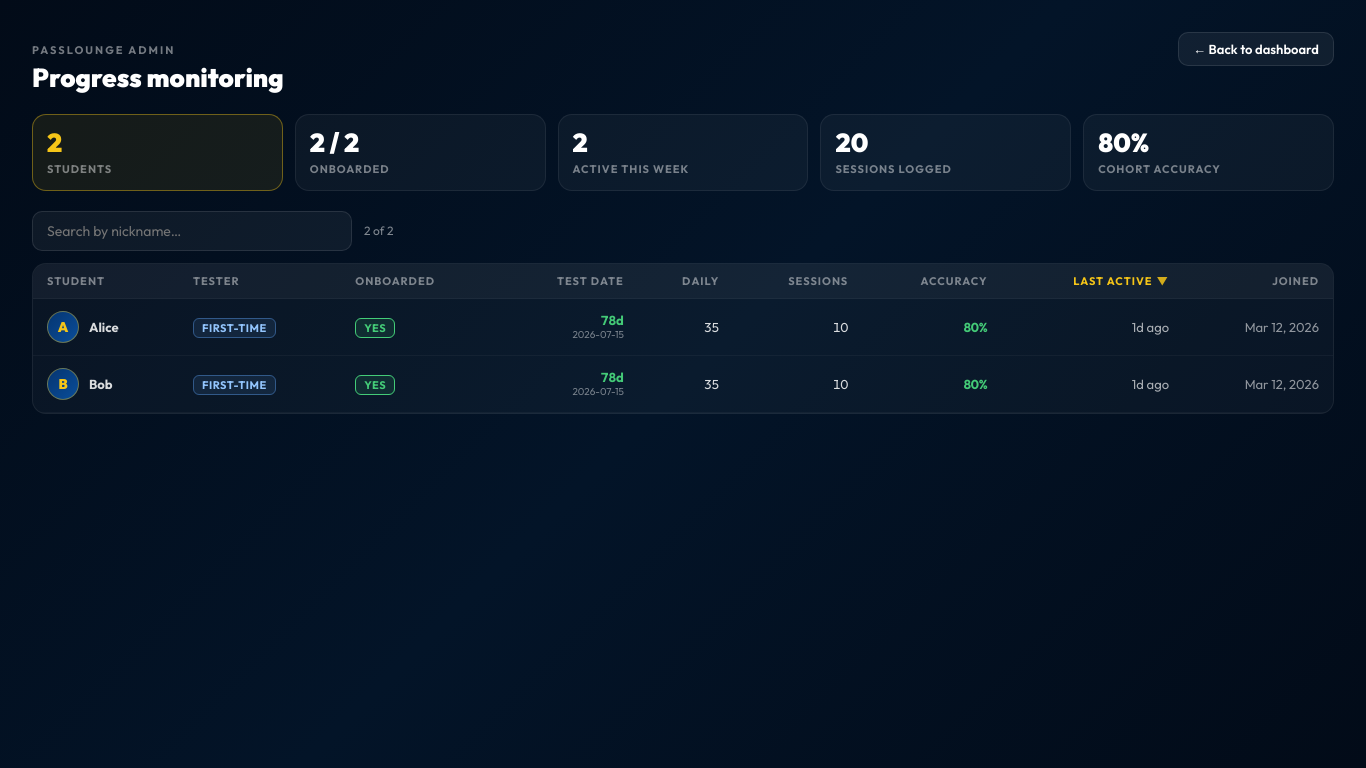
Test: AdminProgressScreen › search filters by nickname
Check: the row with test id "roster-row-s1" is shown, box [33,298,1333,355]
In the search field labelled "Search by nickname…": (192, 231) [32,211,352,251], type "bob"
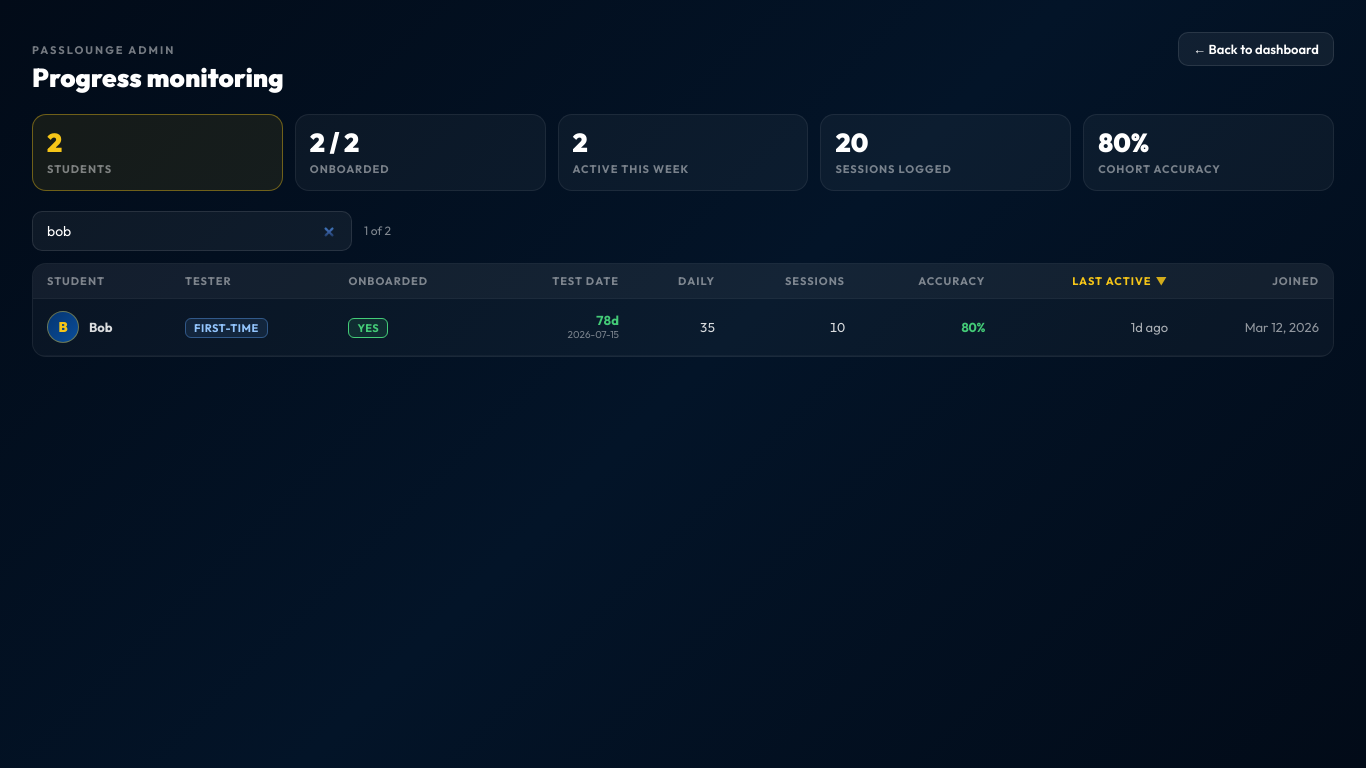
Check: the row with test id "roster-row-s2" is shown, box [33,298,1333,355]
Check: the row with test id "roster-row-s1" is gone
